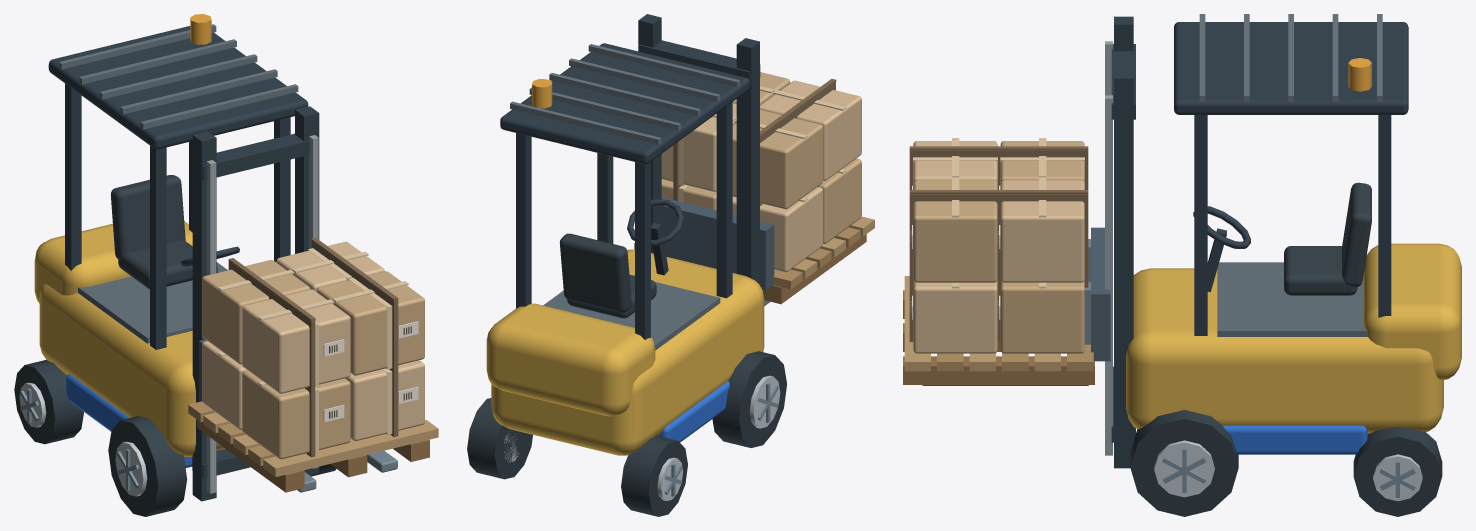
File: forklift-1-blue.glb
3 renders of one model, left to right at view 1: azimuth 30°, elevation 25°; view 2: azimuth 150°, elevation 25°; view 3: azimuth 270°, elevation 25°, orthographic. The views are drawn at different scales.
Parts seen in each view (by area): view 1: static-8--24, static-8--26, static-7--69, static-7--14, forklift-1, static-2--6, static-8--20, wheel-front-left, static-7--11, wheel-rear-left, static-3--5, static-2--3 (+7 smaller); view 2: static-8--26, static-8--24, static-7--69, forklift-1, static-7--14, static-2--6, static-8--20, wheel-front-left, fork-carriage, wheel-rear-left, wheel-rear-right, static-7--11 (+6 smaller); view 3: static-8--26, static-8--24, static-7--69, static-7--14, forklift-1, static-2--6, wheel-front-right, static-7--11, wheel-rear-right, static-3--9, seat, static-2--3 (+8 smaller).
Boxes of the visible parts, x1,y1,x2,y2 form: static-8--24: [48, 26, 308, 349]; static-8--26: [34, 221, 224, 456]; static-7--69: [202, 241, 424, 441]; static-7--14: [202, 260, 424, 459]; forklift-1: [66, 14, 227, 467]; static-2--6: [192, 106, 319, 501]; static-8--20: [59, 24, 298, 129]; wheel-front-left: [108, 416, 187, 516]; static-7--11: [228, 237, 398, 457]; wheel-rear-left: [14, 359, 83, 444]; static-3--5: [203, 412, 438, 476]; static-2--3: [206, 135, 318, 493]; static-8--26: [486, 249, 764, 455]; static-8--24: [500, 43, 749, 339]; static-7--69: [661, 80, 861, 272]; forklift-1: [532, 79, 729, 442]; static-7--14: [661, 72, 861, 243]; static-2--6: [638, 14, 760, 284]; static-8--20: [510, 44, 739, 145]; wheel-front-left: [712, 351, 786, 447]; fork-carriage: [661, 197, 774, 290]; wheel-rear-left: [621, 436, 687, 516]; wheel-rear-right: [467, 398, 532, 479]; static-7--11: [673, 79, 836, 205]; static-8--26: [1126, 243, 1461, 433]; static-8--24: [1174, 22, 1408, 335]; static-7--69: [913, 141, 1084, 353]; static-7--14: [913, 141, 1084, 353]; forklift-1: [1217, 58, 1371, 454]; static-2--6: [1111, 16, 1135, 468]; wheel-front-right: [1130, 410, 1238, 516]; static-7--11: [909, 146, 1088, 341]; wheel-rear-right: [1353, 426, 1442, 516]; static-3--9: [903, 290, 1094, 384]; seat: [1284, 246, 1357, 295]; static-2--3: [1105, 41, 1112, 455].
Size of the model in its own units: 1.54 by 2.91 by 3.4.
